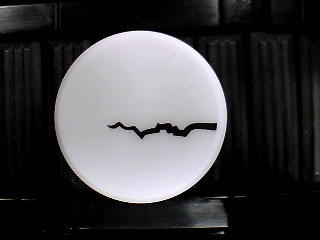CRACK: (53, 29, 228, 204)
